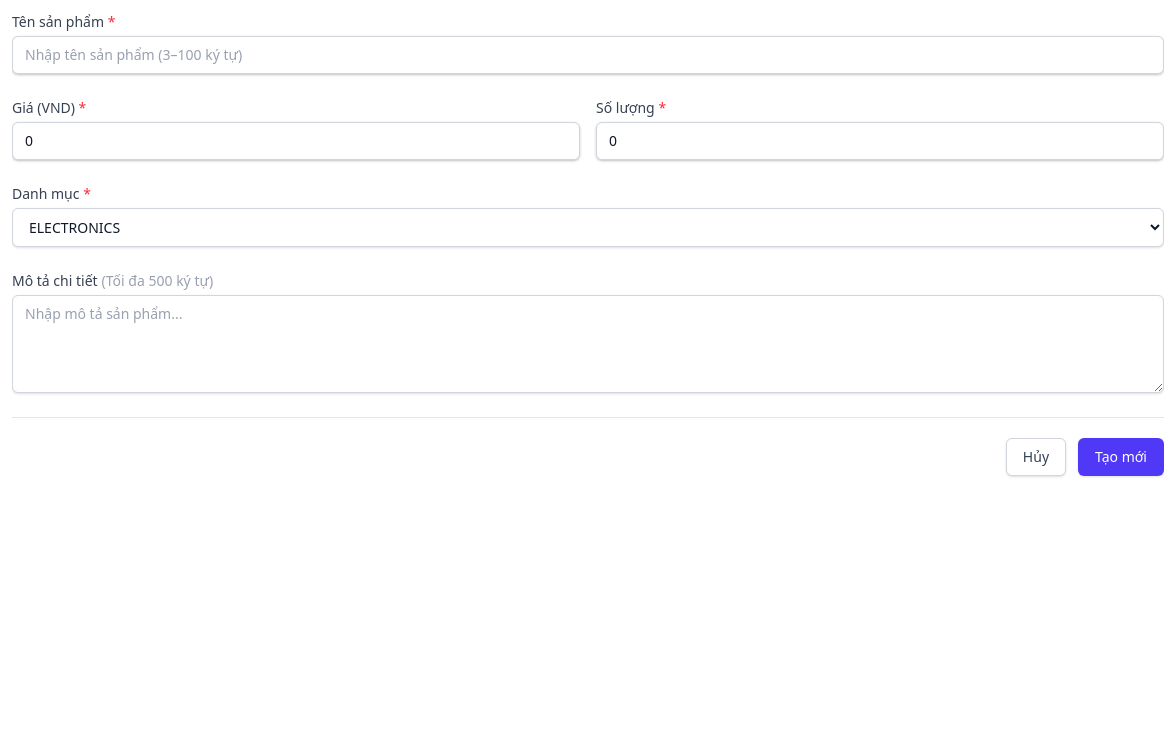
Test: ProductForm Component Tests › TC12: Price > 999,999,999 bao loi
Type "Valid Name" into the field with test id "product-name". click: [588, 55]
box: [12,36,1164,74]
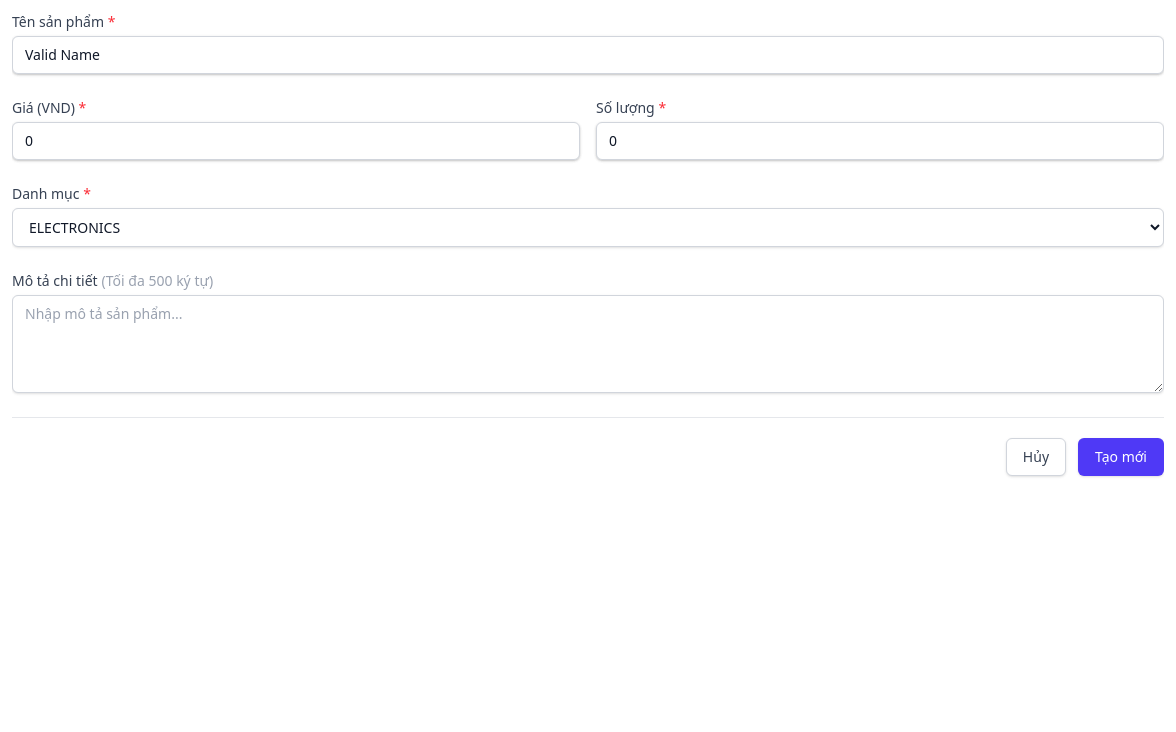
Type "1000000000" into the number field with test id "product-price". click: [296, 141]
box: [12,122,580,160]
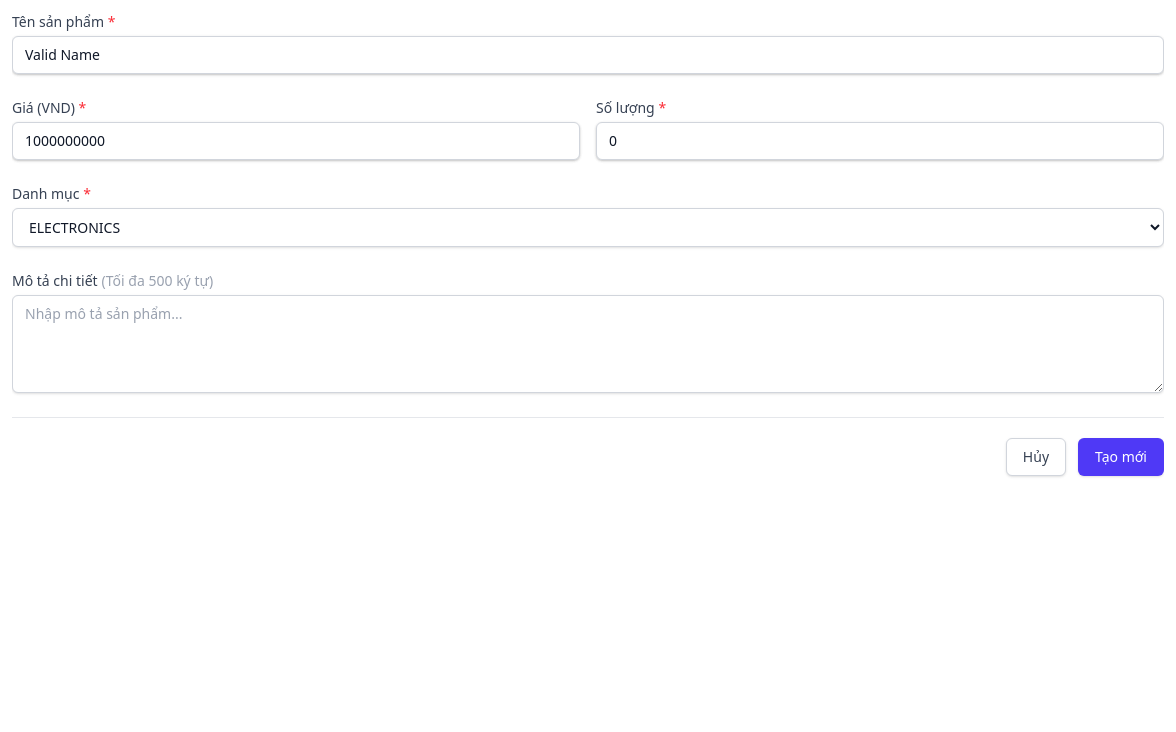
Click the button with test id "submit-button". click: [1121, 457]
box: [1078,438,1164,476]
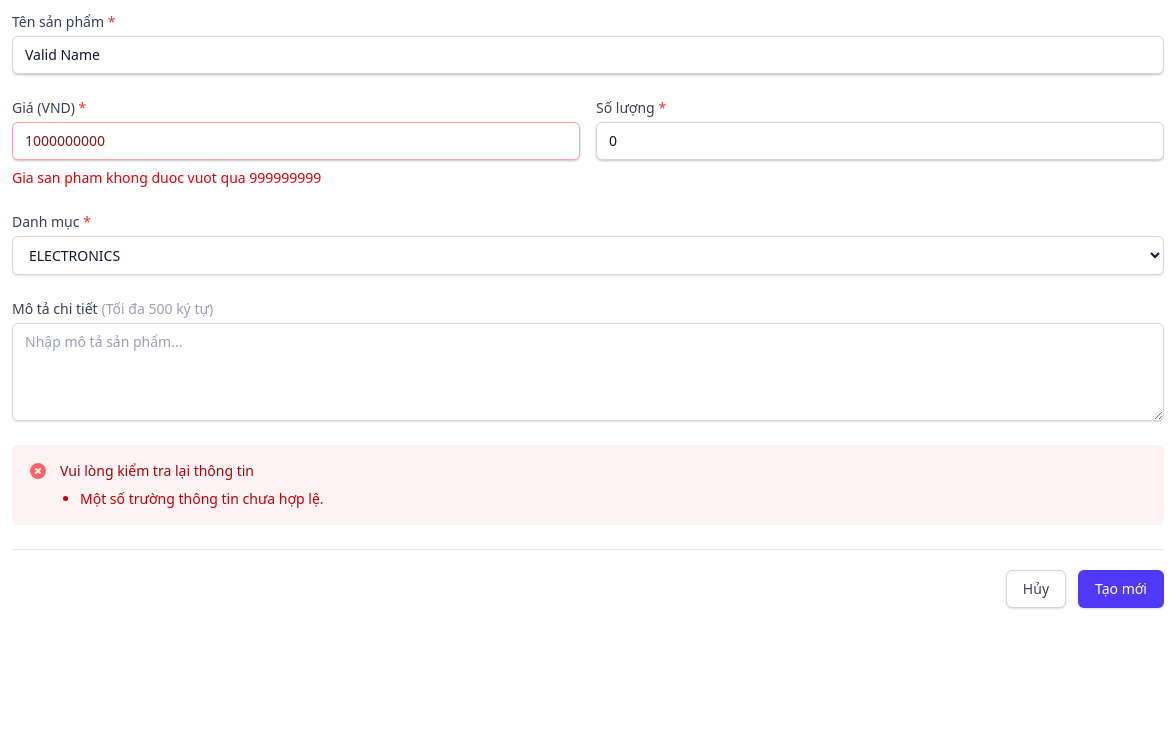
Result: the text with test id "error-price" shows "khong duoc vuot qua" at [12,168,321,187]
